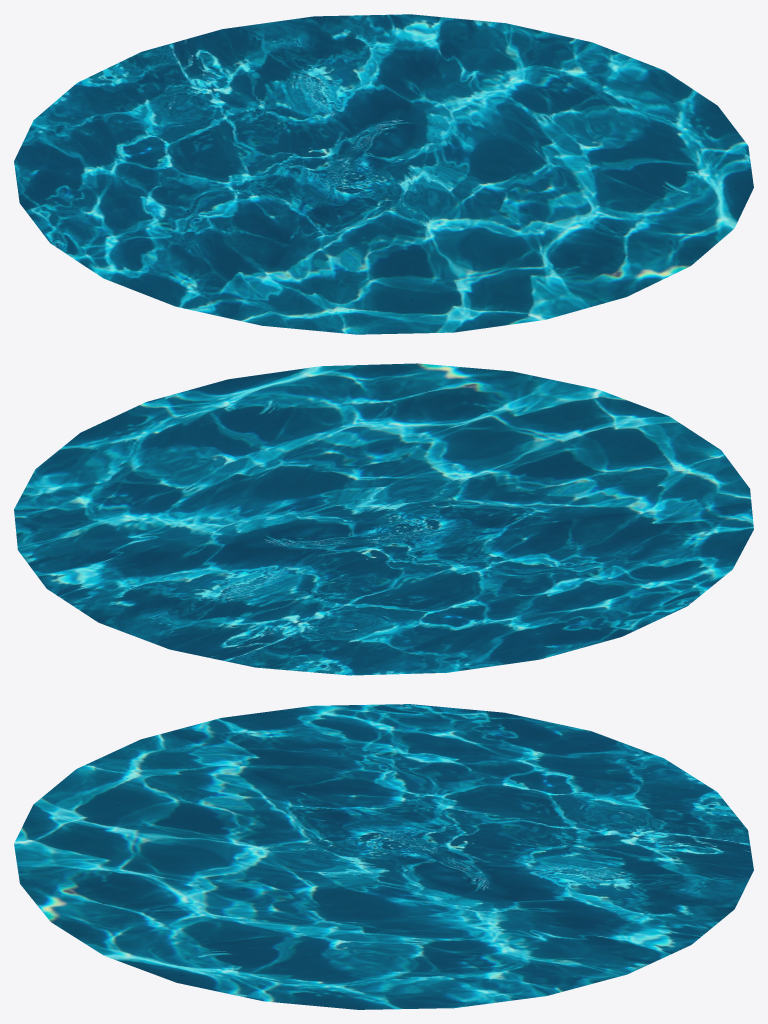
File: AguaCazuela_Picapiedras.obj
3 views of the same model, one above another, from view 1: azimuth 30°, elevation 25°; view 2: azimuth 150°, elevation 25°; view 3: azimuth 270°, elevation 25° (orthographic). The views are drawn at different scales.
Parts seen in each view (by area): view 1: AguaCazuela_Picapiedras:pDisc1; view 2: AguaCazuela_Picapiedras:pDisc1; view 3: AguaCazuela_Picapiedras:pDisc1.
Part boxes in pixels (left/top/right/bottom): AguaCazuela_Picapiedras:pDisc1: left=14, top=14, right=753, bottom=334; AguaCazuela_Picapiedras:pDisc1: left=14, top=363, right=753, bottom=675; AguaCazuela_Picapiedras:pDisc1: left=14, top=704, right=753, bottom=1009.
Size of the model in its own units: 23.93 by 0 by 24.47.
1 material, 1 textured.
